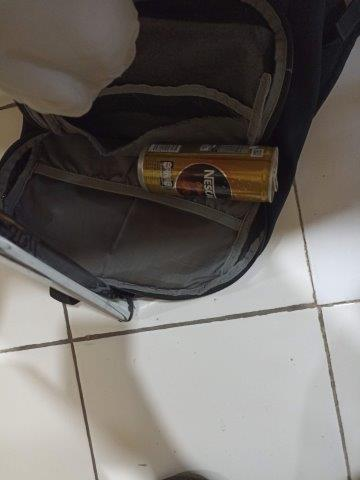kaleng: (136, 143, 278, 203)
